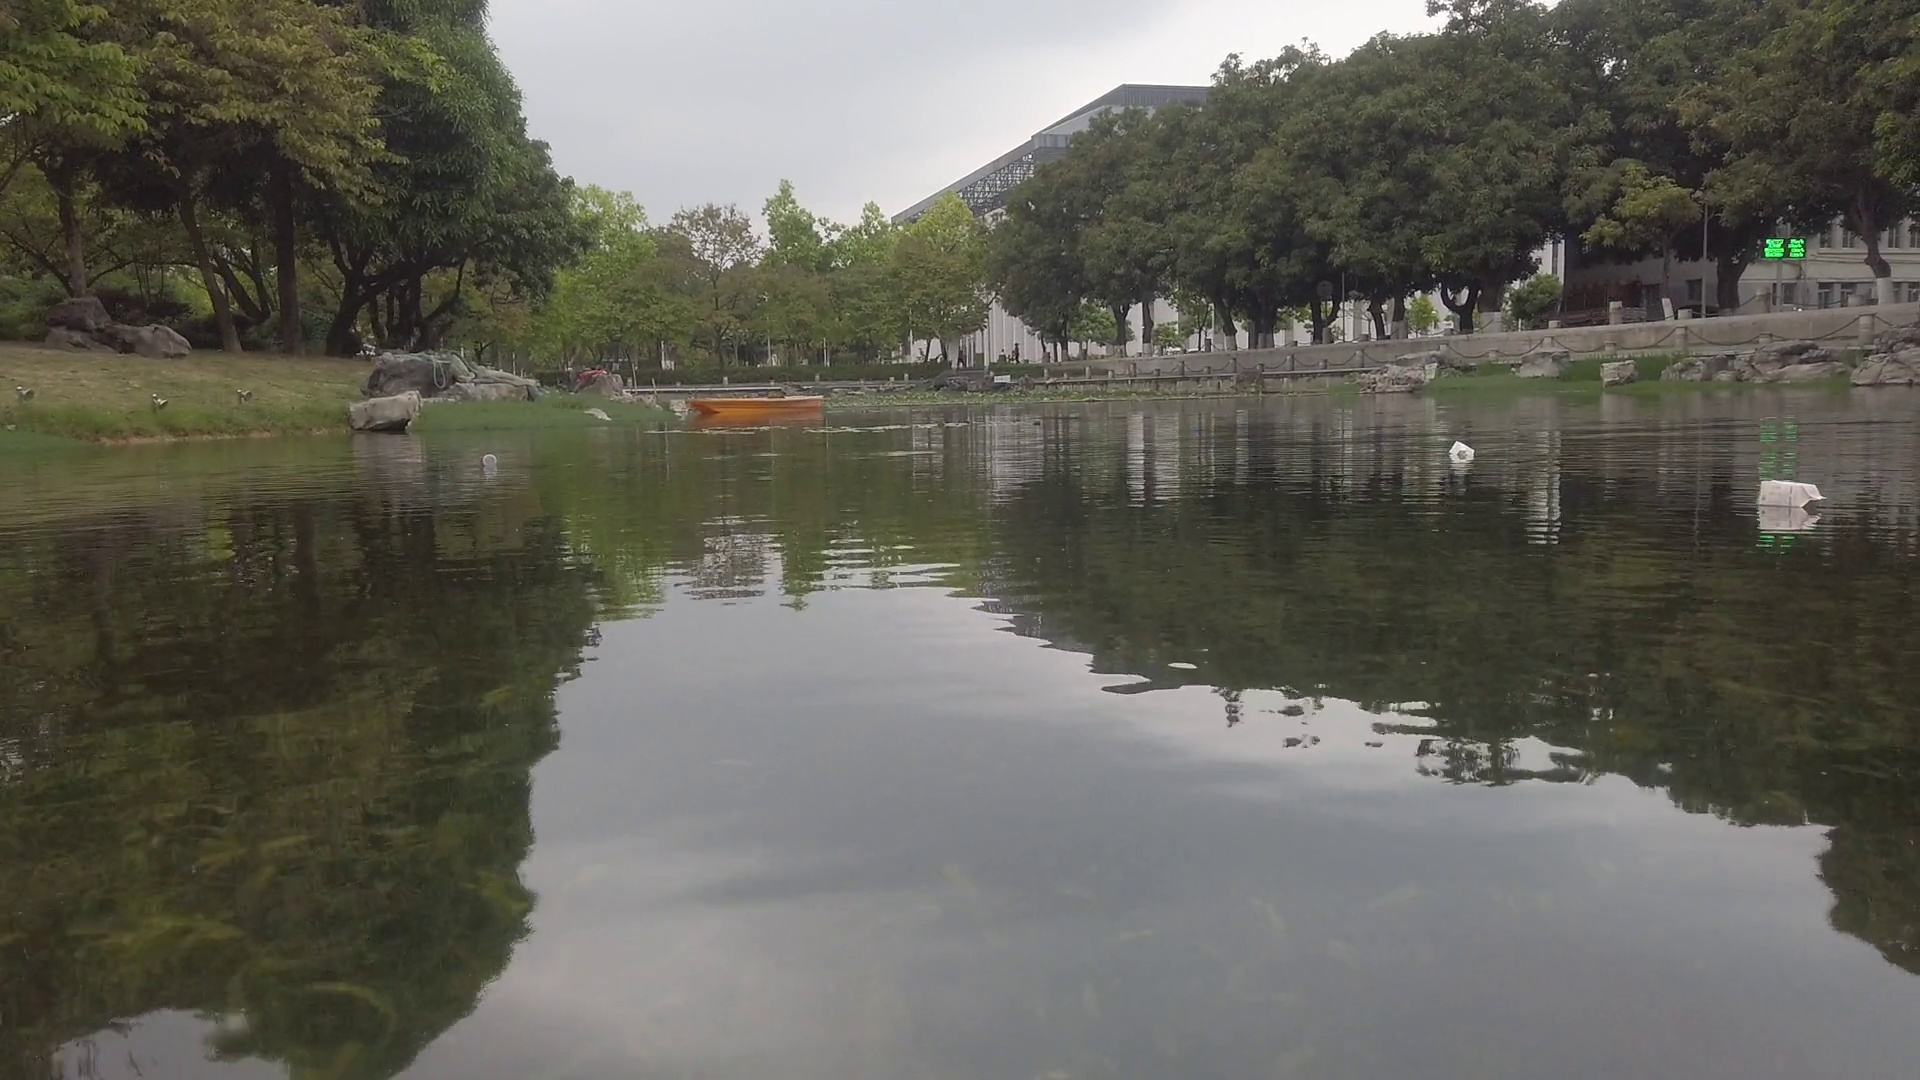bottle: (480, 452, 498, 469)
carton: (1756, 477, 1829, 513), (1445, 439, 1476, 465)
